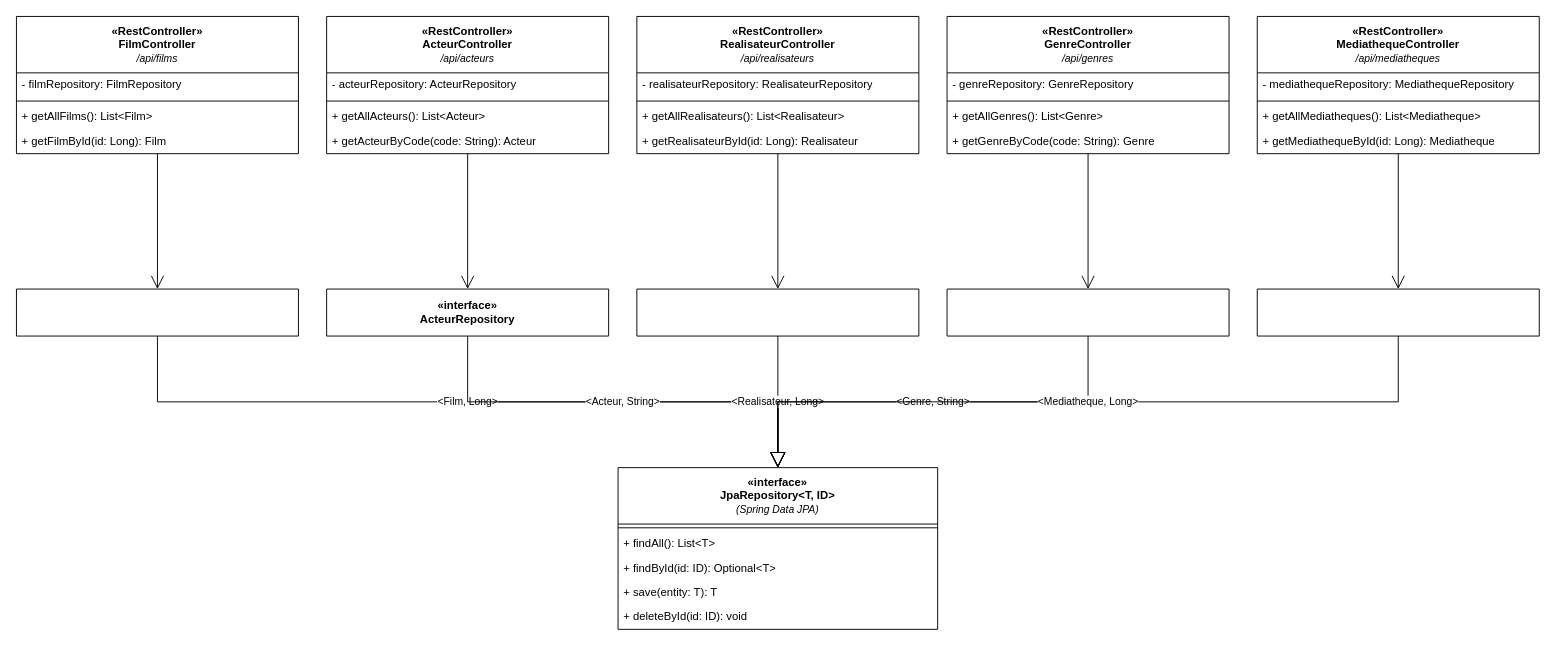
Image size: 1556x646. Some labels were removed from this diagram. Here are the shapes that lost their labels. From the top down, the centre of each, then its label:
At [157,312]: "«interface» FilmRepository".
At [777,312]: "«interface» RealisateurRepository".
At [1087,312]: "«interface» GenreRepository".
At [1397,312]: "«interface» MediathequeRepository".
